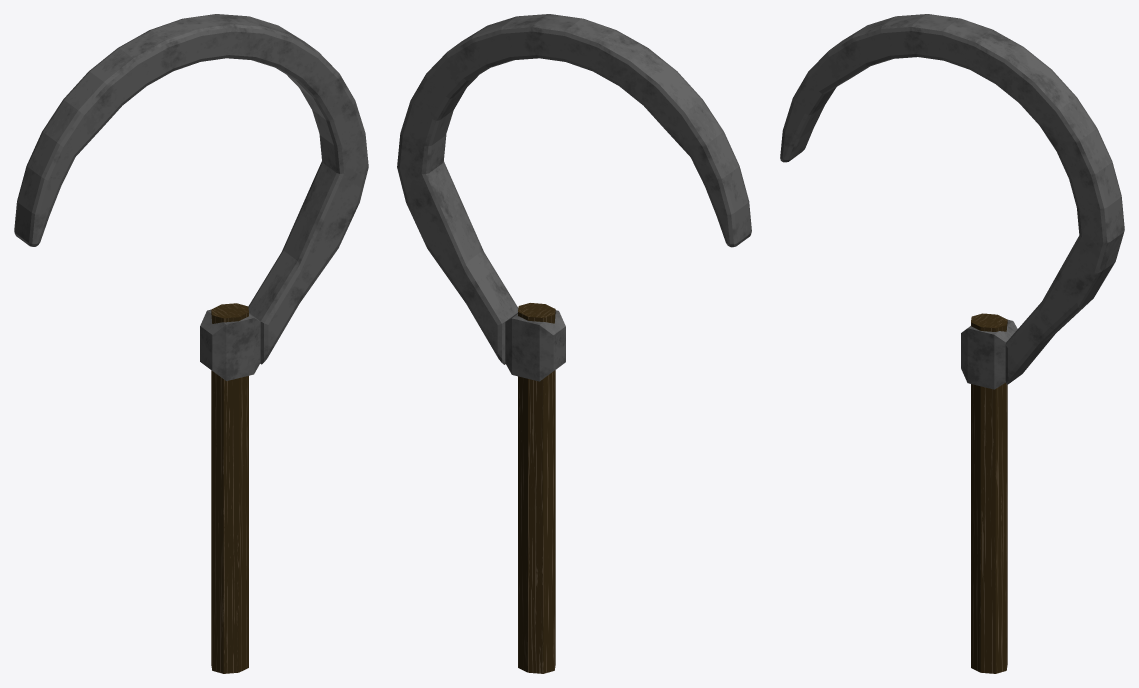
File: Foice.fbx
The picture shows the model from 3 angles, left to right: view 1: azimuth 30°, elevation 25°; view 2: azimuth 150°, elevation 25°; view 3: azimuth 330°, elevation 25°; orthographic projection. The views are drawn at different scales.
Parts seen in each view (by area): view 1: Foice; view 2: Foice; view 3: Foice.
Part boxes in pixels (x1,y1,x2,y2): Foice: (14, 14, 368, 673); Foice: (397, 14, 751, 673); Foice: (780, 14, 1124, 673).
Size of the model in its own units: 74.9 by 137 by 7.5.
Materials: 2 (2 with a texture image).
